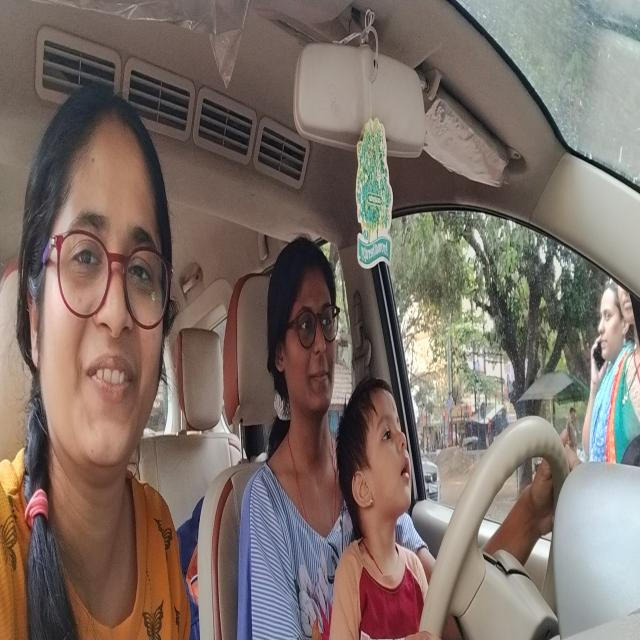child: (334, 378, 414, 538)
person: (12, 70, 180, 491), (263, 231, 339, 419)
